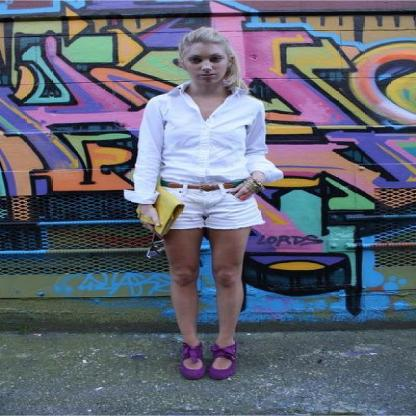bag: (144, 191, 183, 235)
shirt: (124, 92, 283, 203)
shoe: (174, 341, 232, 381)
shorts: (162, 180, 261, 228)
